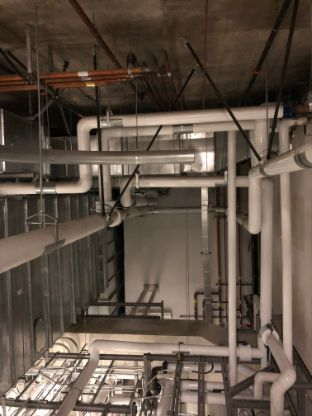Duct: (40, 132, 253, 180), (63, 315, 260, 346)
